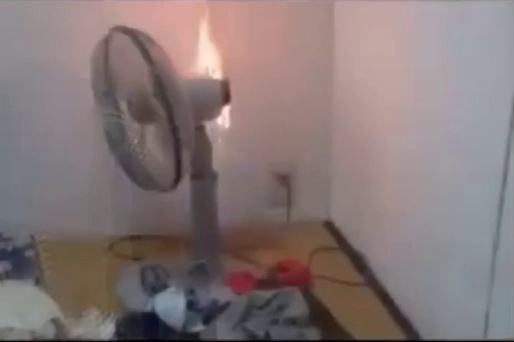fire: (194, 12, 234, 89)
